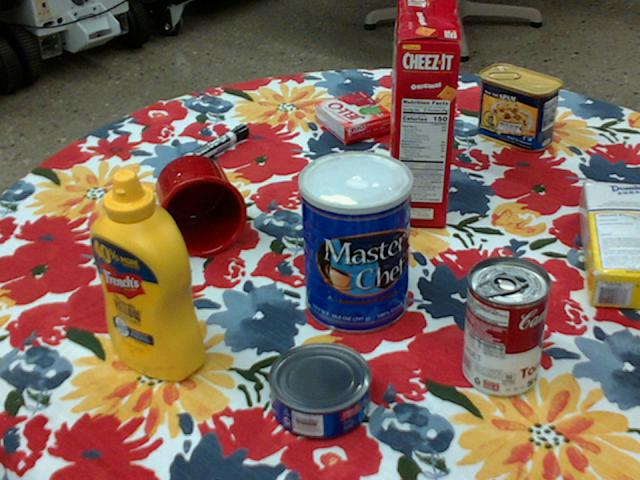cracker_box: (388, 0, 459, 226)
gelatin_box: (312, 91, 392, 145)
large_marker: (175, 122, 246, 170)
master_chef_can: (297, 151, 412, 335)
mug: (141, 155, 247, 258)
mustard_bottle: (88, 170, 206, 380)
potted_meat_can: (477, 62, 561, 150)
sugar_box: (578, 181, 639, 308)
tomato_soup_can: (463, 255, 550, 396)
tuna_fish_can: (265, 342, 368, 439)
